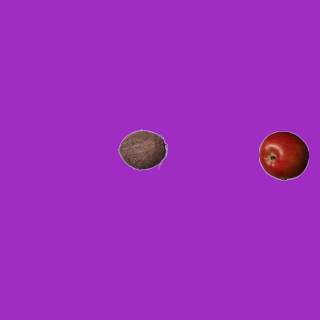Apple Braeburn: (258, 130, 308, 180)
Cocos: (117, 124, 167, 174)
